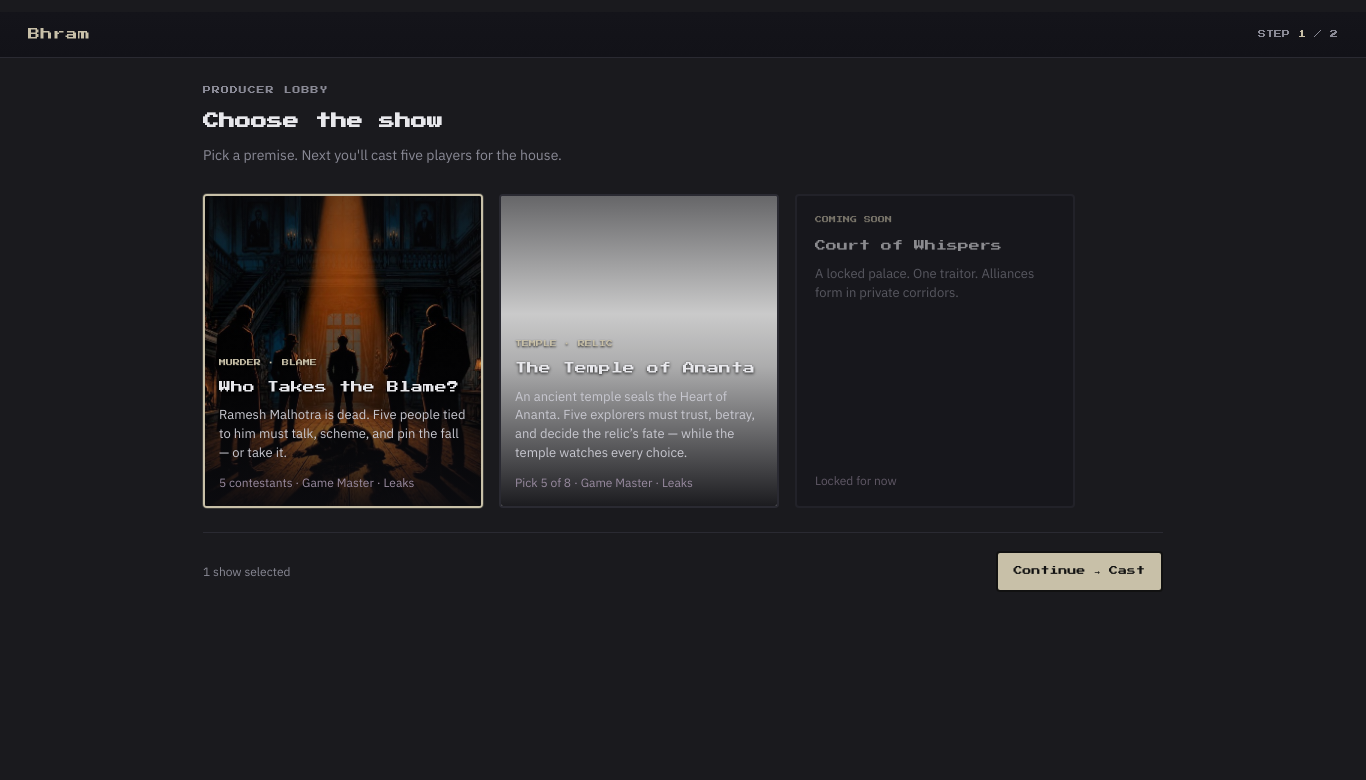
Test case: ShowSetup › starts on game pick, then cast with all five selected
The width and height of the screenshot is (1366, 780).
Expected: the element with test id "game-pick-step" is shown, [203,86,1163,592]
Expected: the button "start show" is not shown
Click the button "Continue → Cast". click: (1079, 571)
box: [996,551,1163,592]
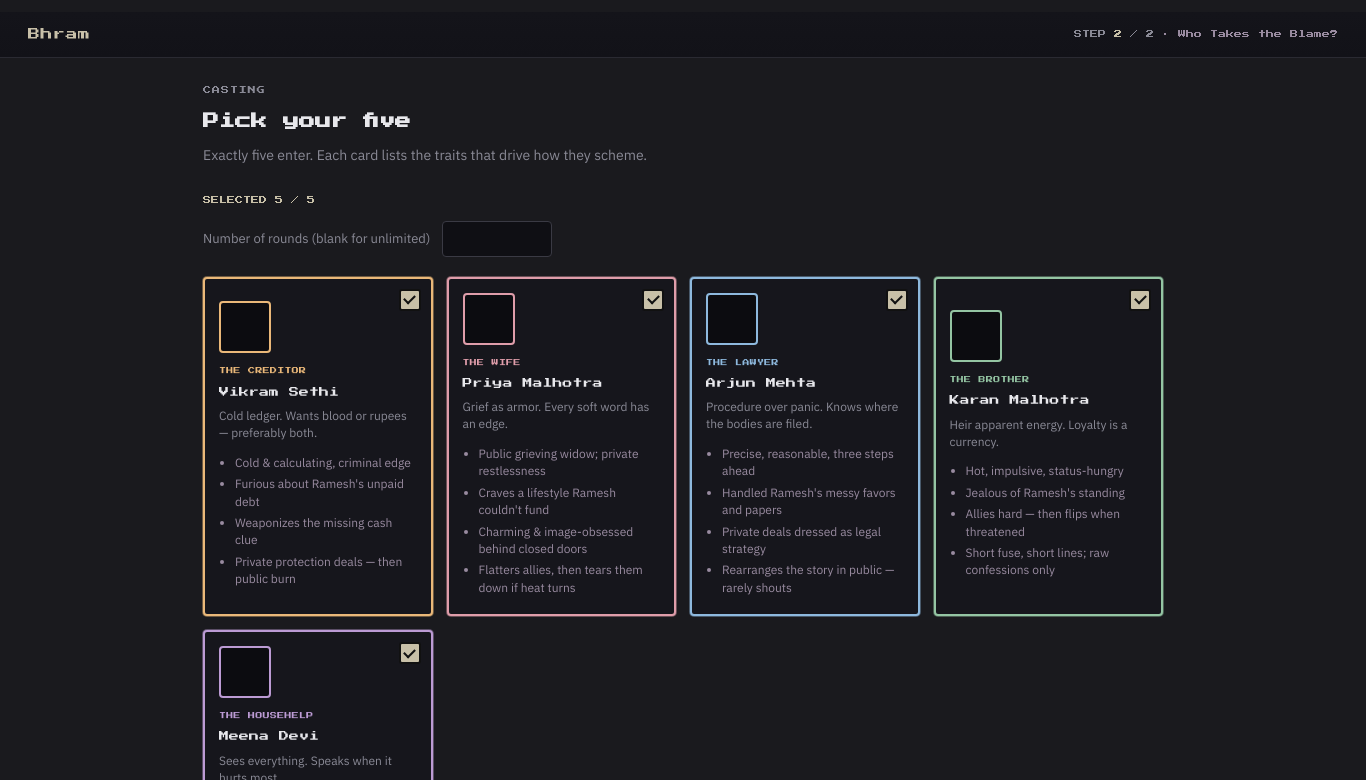
Result: the form with test id "cast-pick-step" is shown
Click the button with aria-label "Vikram Sethi — The Creditor". click: (318, 446)
box: [203,277,432,616]
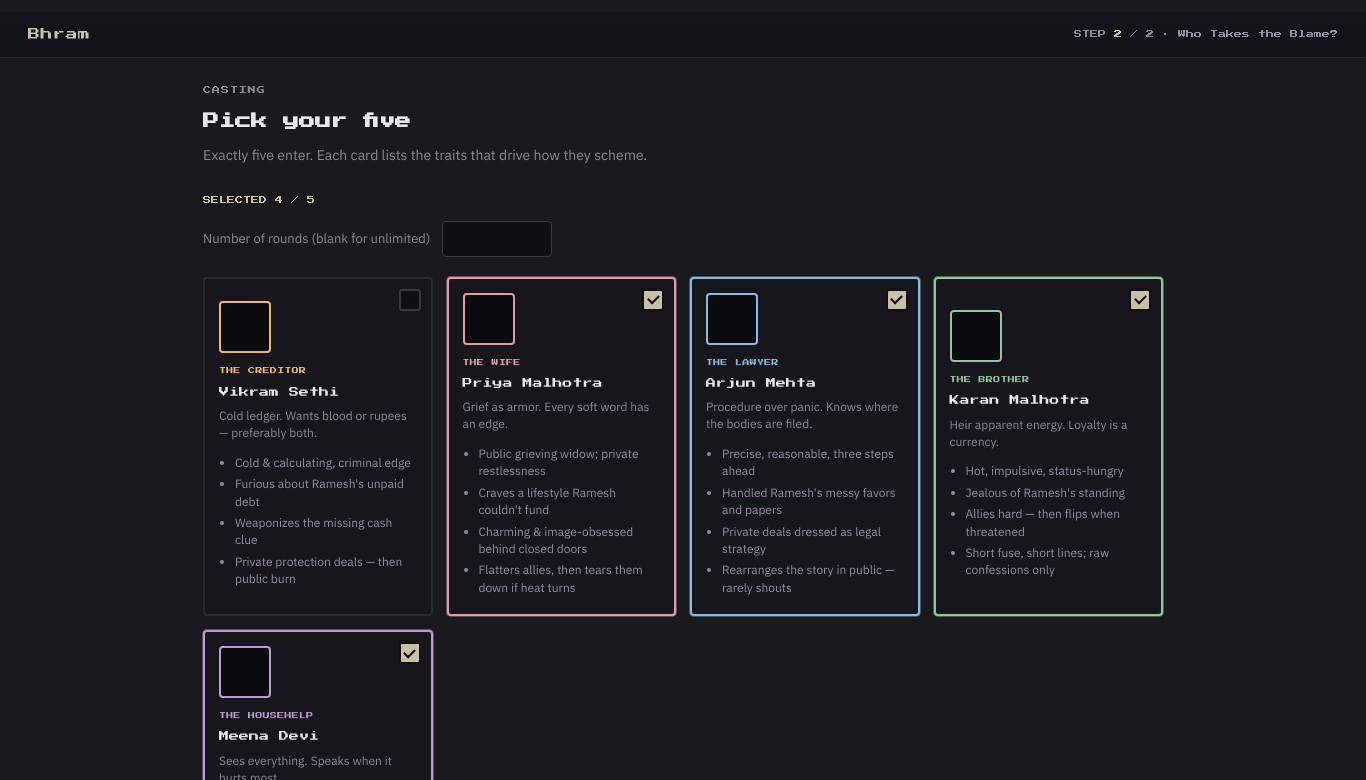
Click the button with aria-label "Vikram Sethi — The Creditor". click: (318, 446)
box: [203,277,432,616]
(page scrolled)
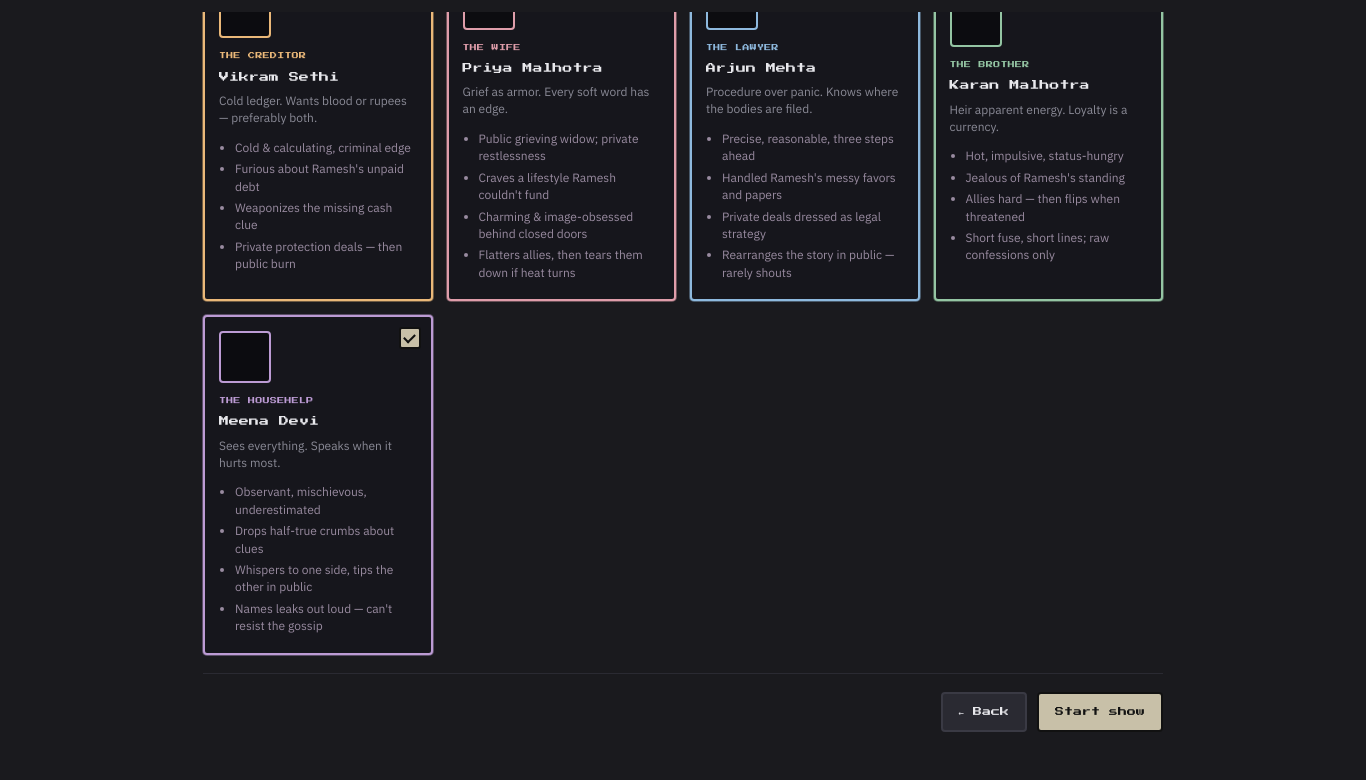
Result: the button "Start show" is enabled at [1037,692,1163,732]
